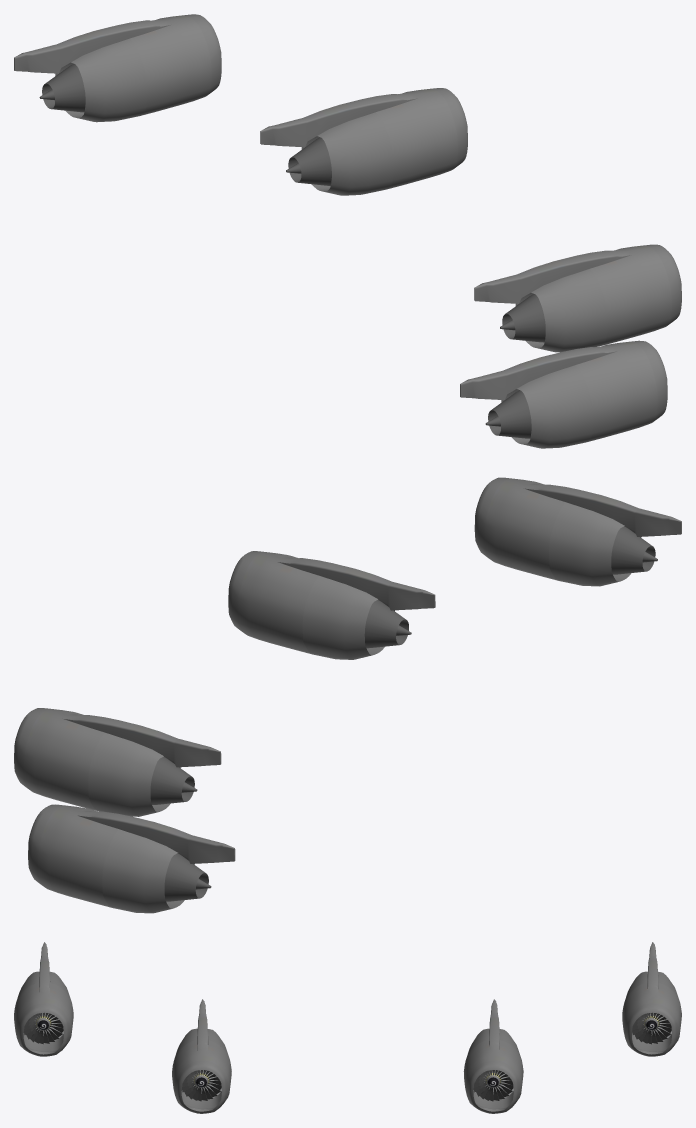
3 renders of one model, top to bottom at view 1: azimuth 30°, elevation 25°; view 2: azimuth 150°, elevation 25°; view 3: azimuth 270°, elevation 25°, orthographic. The views are drawn at different scales.
Visible parts, largest first — view 1: engine.001, engine.004, engine.002, engine.003; view 2: engine.004, engine.003, engine.001, engine.002; view 3: engine.003, engine.001, engine.002, engine.004.
Part boxes in pixels (x1,y1,x2,y2): engine.001: (460, 340, 667, 448); engine.004: (14, 14, 221, 122); engine.002: (260, 88, 467, 195); engine.003: (474, 244, 681, 352); engine.004: (28, 804, 235, 913); engine.003: (228, 551, 435, 659); engine.001: (474, 477, 681, 586); engine.002: (14, 708, 221, 816); engine.003: (172, 999, 231, 1113); engine.001: (14, 942, 73, 1056); engine.002: (463, 999, 523, 1113); engine.004: (622, 942, 681, 1056).
Size of the model in its own units: 17.27 by 5.48 by 45.47.
5 materials, 3 textured.
